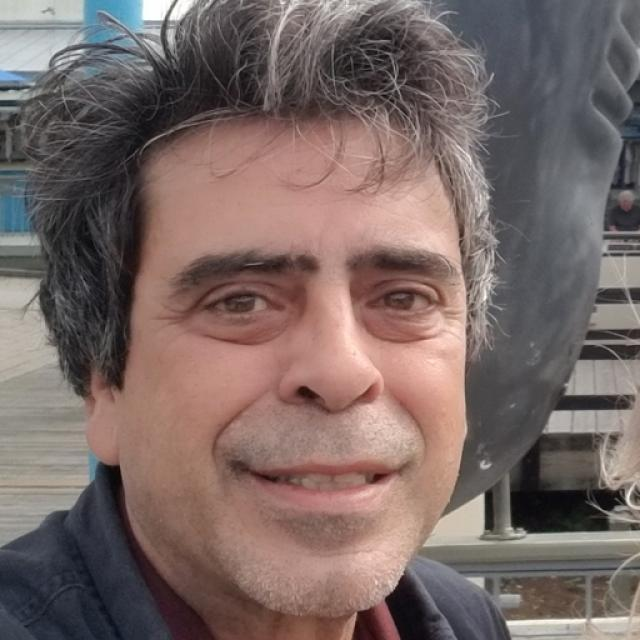happy: (115, 118, 471, 618)
